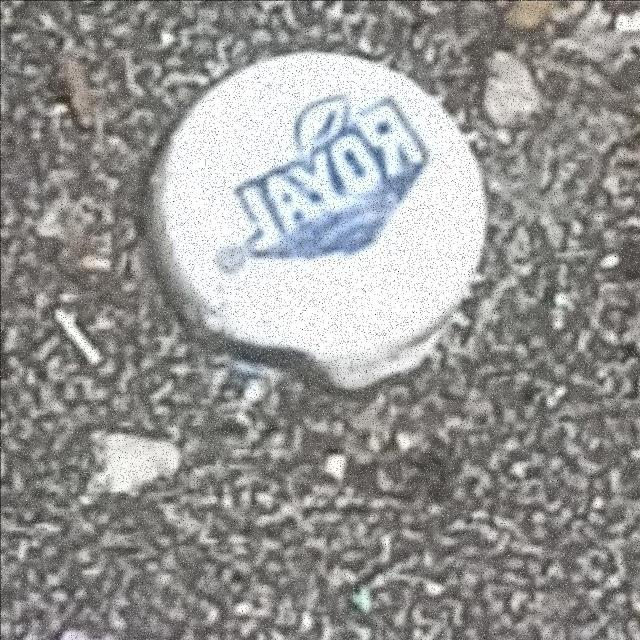plastic_waste: (148, 49, 490, 389)
